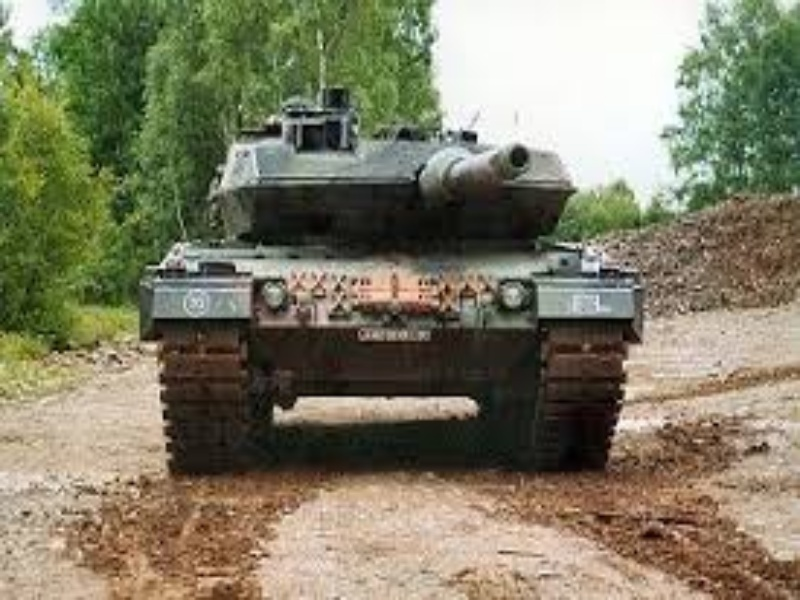tank: (134, 81, 645, 479)
